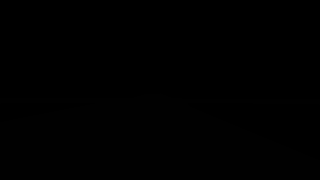go_ahead: (187, 64, 201, 77)
